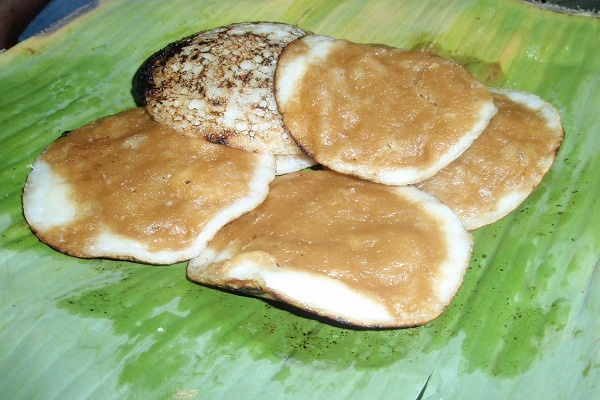srabi: (195, 157, 477, 350), (13, 90, 247, 260), (256, 21, 502, 181)
